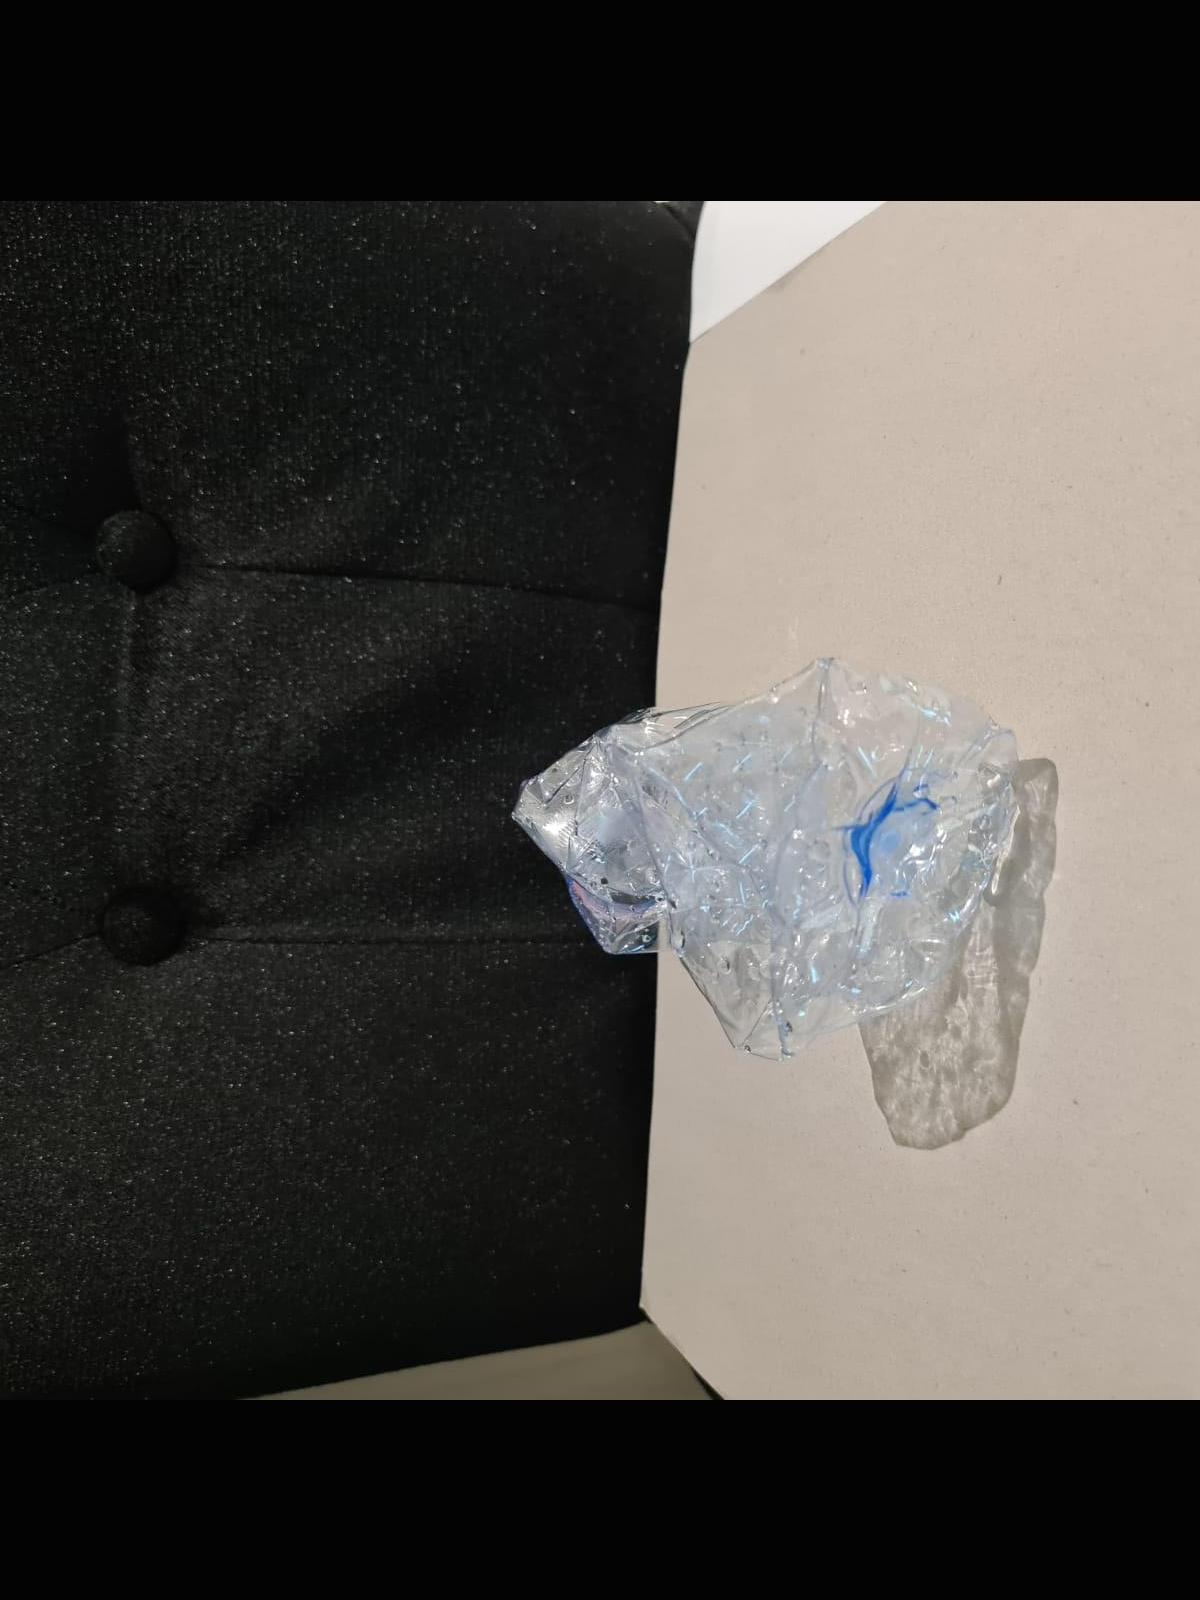bottle: (514, 614, 1071, 1072)
